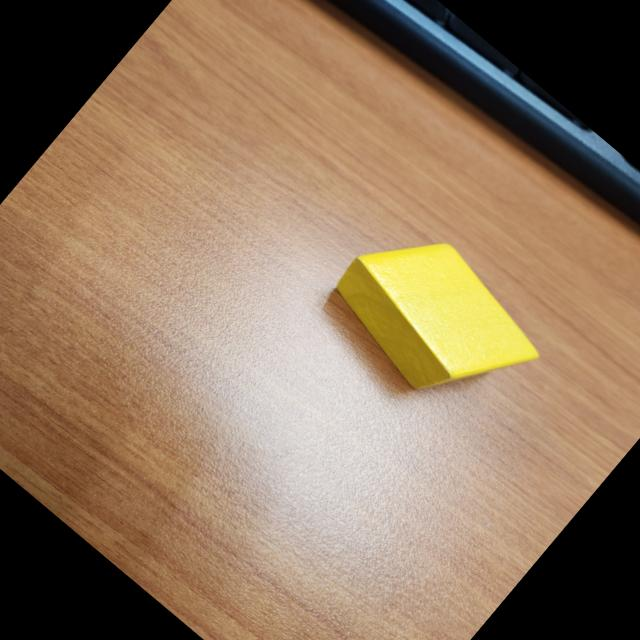yellow: (306, 198, 559, 444)
